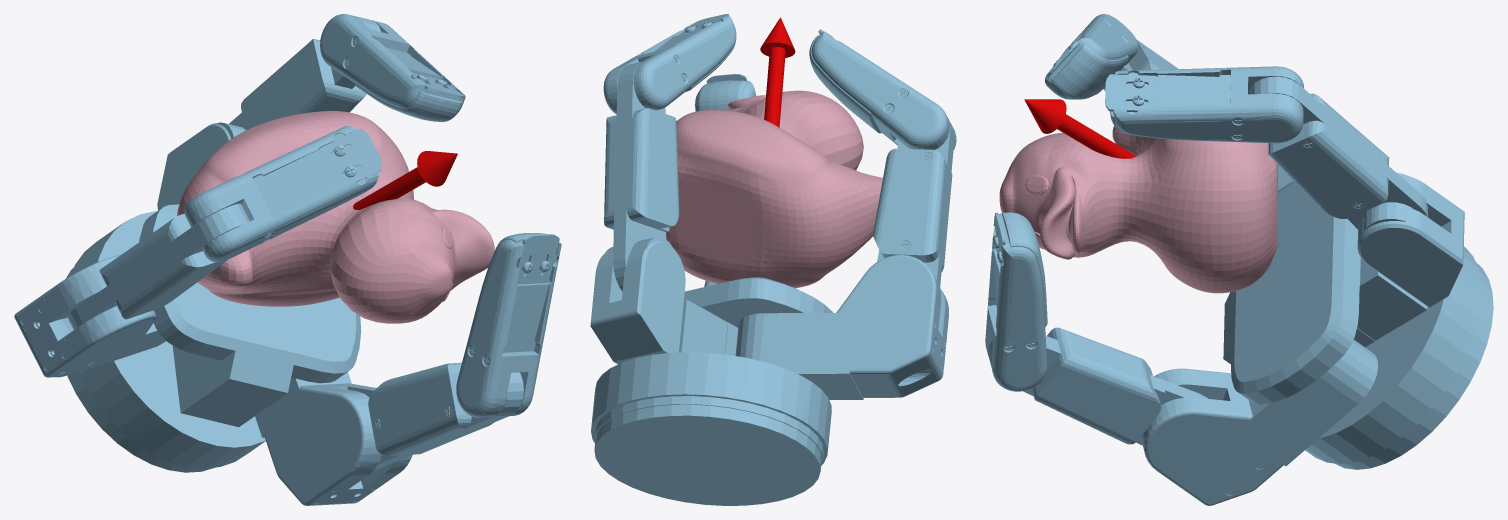
3 renders of one model, left to right at view 1: azimuth 30°, elevation 25°; view 2: azimuth 150°, elevation 25°; view 3: azimuth 270°, elevation 25°, orthographic. The views are drawn at different scales.
Parts seen in each view (by area): view 1: world, rubber_duck.stl; view 2: world, rubber_duck.stl; view 3: world, rubber_duck.stl.
Boxes of the visible parts, x1,y1,x2,y2 form: world: [14, 14, 561, 505]; rubber_duck.stl: [177, 111, 494, 323]; world: [590, 14, 956, 505]; rubber_duck.stl: [666, 90, 882, 288]; world: [985, 14, 1493, 505]; rubber_duck.stl: [999, 125, 1277, 293].
Bounding box in the file's own units: 0.1572 × 0.1715 × 0.175.
